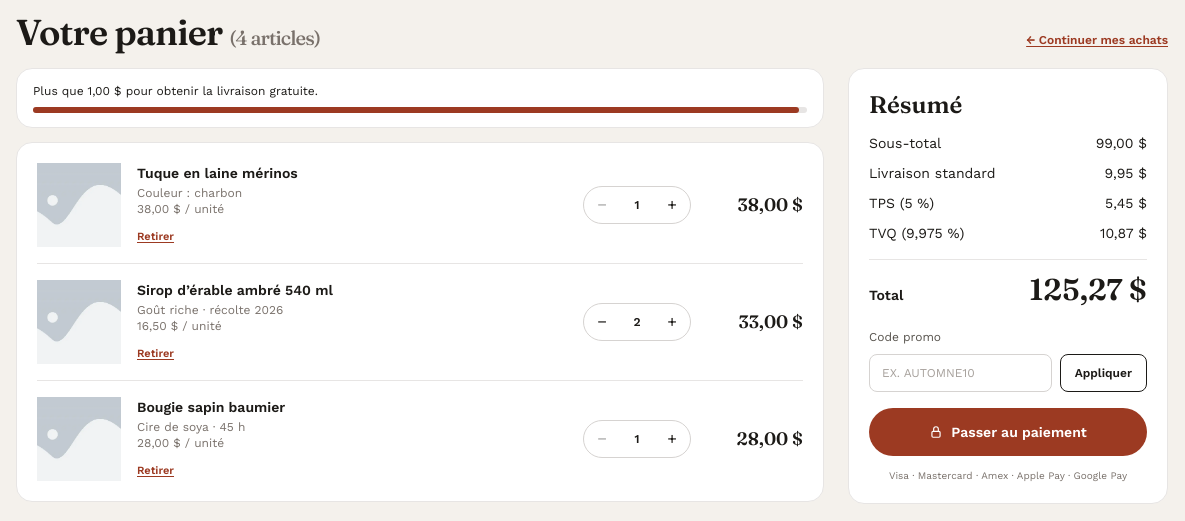
Scenario: PanierPage › removes a line
Step 1. Click the button "Retirer" below "Cire de soya · 45 h" → (156, 471), box [137,463,174,480]
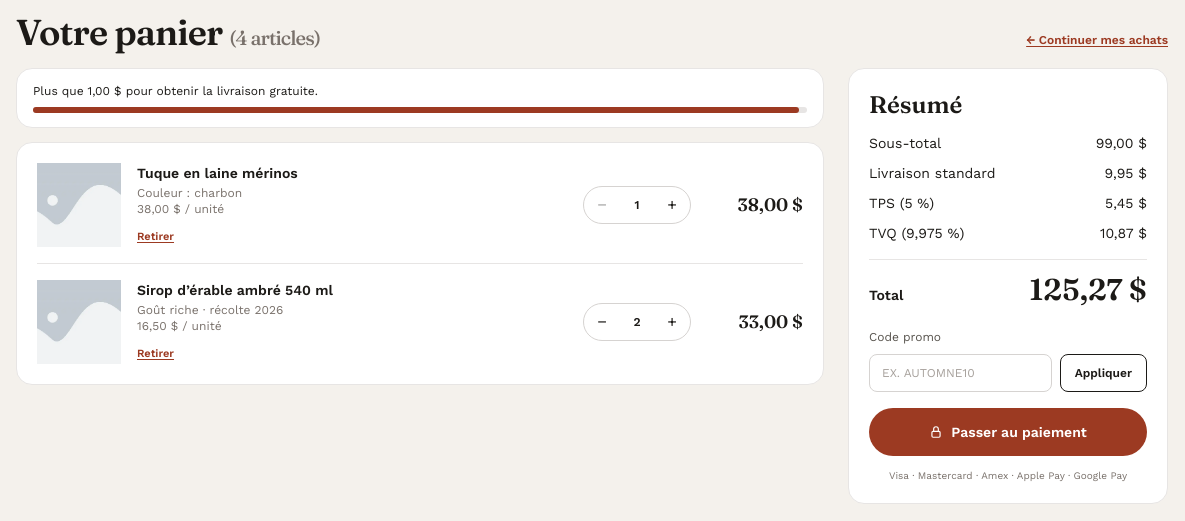
Expected: the number of list items is 2, [37,147,803,264]; [37,264,803,380]
Expected: the heading "Bougie sapin baumier" is gone
